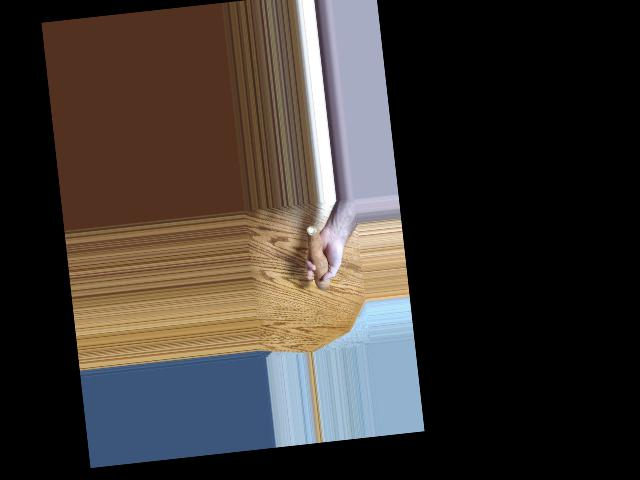sweet_potato: (303, 222, 327, 295)
